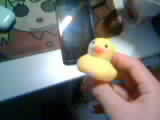duck: (75, 28, 124, 85)
